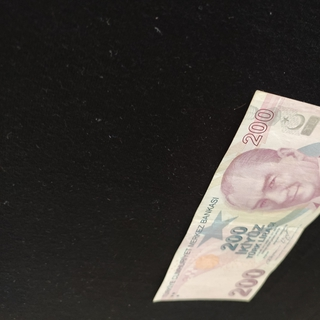200TLFront: (152, 88, 320, 302)
